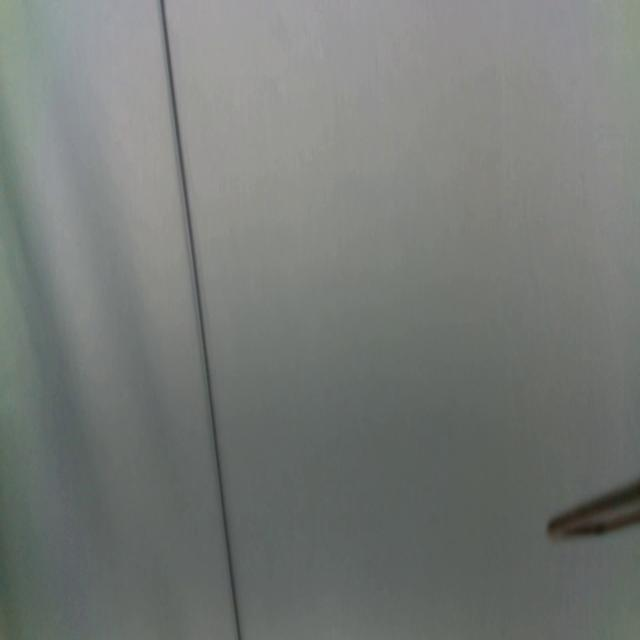crease: (160, 0, 239, 640)
